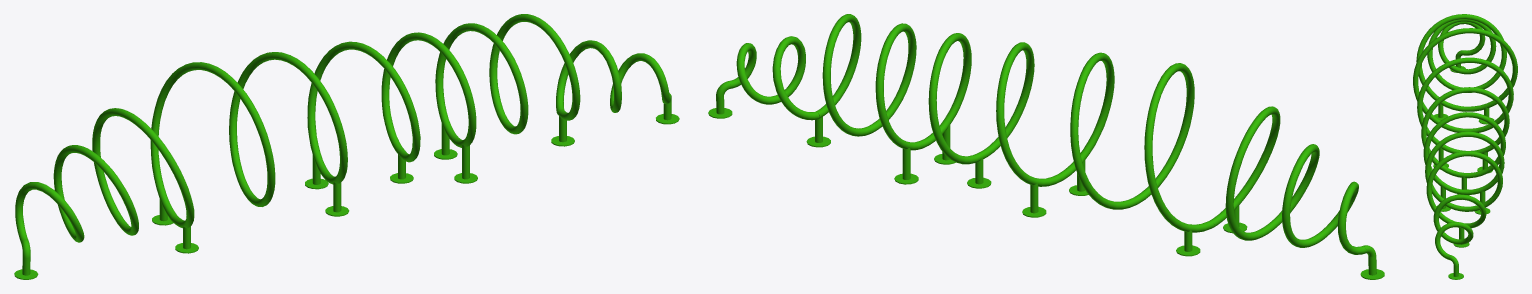
Rendered from 17004-Espiral.FBX.
The picture shows the model from 3 angles, left to right: view 1: azimuth 30°, elevation 25°; view 2: azimuth 150°, elevation 25°; view 3: azimuth 270°, elevation 25°; orthographic projection. The views are drawn at different scales.
Bounding box in the file's own units: 287 × 65.29 × 59.58.
